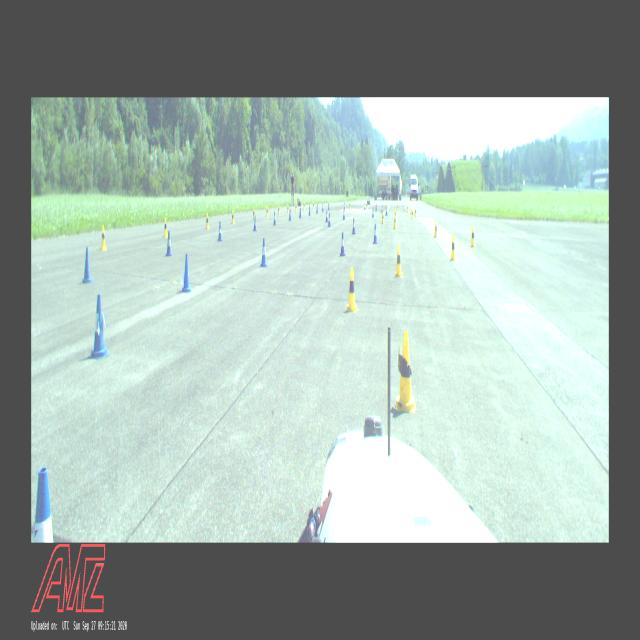blue_cone: (34, 467, 54, 542), (90, 295, 110, 357), (182, 254, 192, 292), (82, 247, 92, 283), (260, 238, 268, 266), (166, 231, 172, 256), (340, 232, 346, 256), (373, 224, 378, 244), (218, 222, 222, 242), (352, 218, 356, 234), (253, 216, 257, 232), (328, 213, 331, 227), (274, 212, 276, 224), (289, 208, 291, 220), (326, 211, 328, 222), (343, 209, 345, 220), (300, 208, 302, 218), (308, 206, 310, 216), (372, 208, 374, 218), (386, 206, 388, 216), (316, 204, 318, 213), (322, 203, 324, 212), (376, 204, 378, 212), (344, 202, 346, 210), (328, 203, 330, 210), (364, 203, 366, 210), (382, 205, 384, 212)
yellow_cone: (394, 332, 416, 412), (346, 268, 358, 312), (395, 245, 403, 277), (100, 226, 107, 250), (450, 235, 456, 260), (470, 226, 476, 247), (164, 218, 168, 238), (206, 213, 210, 229), (434, 221, 438, 237), (393, 215, 397, 229), (231, 211, 235, 224), (393, 210, 398, 220), (252, 207, 255, 219), (382, 211, 384, 224), (266, 206, 268, 216), (278, 204, 280, 214), (412, 209, 414, 219), (287, 204, 289, 213), (295, 204, 297, 212), (303, 202, 305, 210), (414, 208, 416, 216), (410, 206, 412, 214), (396, 204, 398, 211), (407, 205, 409, 212), (384, 203, 386, 210), (366, 202, 368, 208), (349, 202, 351, 208), (313, 202, 314, 210)
